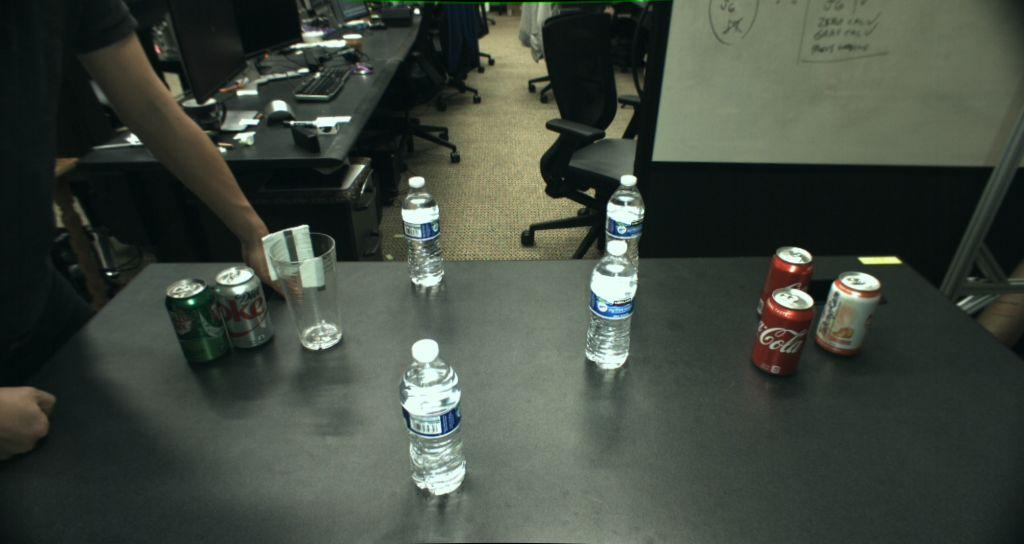can_coke: (751, 288, 817, 374), (756, 246, 814, 321)
can_diet_coke: (216, 265, 274, 352)
can_ginger_ale: (167, 278, 230, 366)
can_talking_rain_peach_nectarine: (816, 269, 880, 356)
water_bottle: (399, 338, 466, 495), (585, 240, 638, 370), (400, 176, 444, 287)
